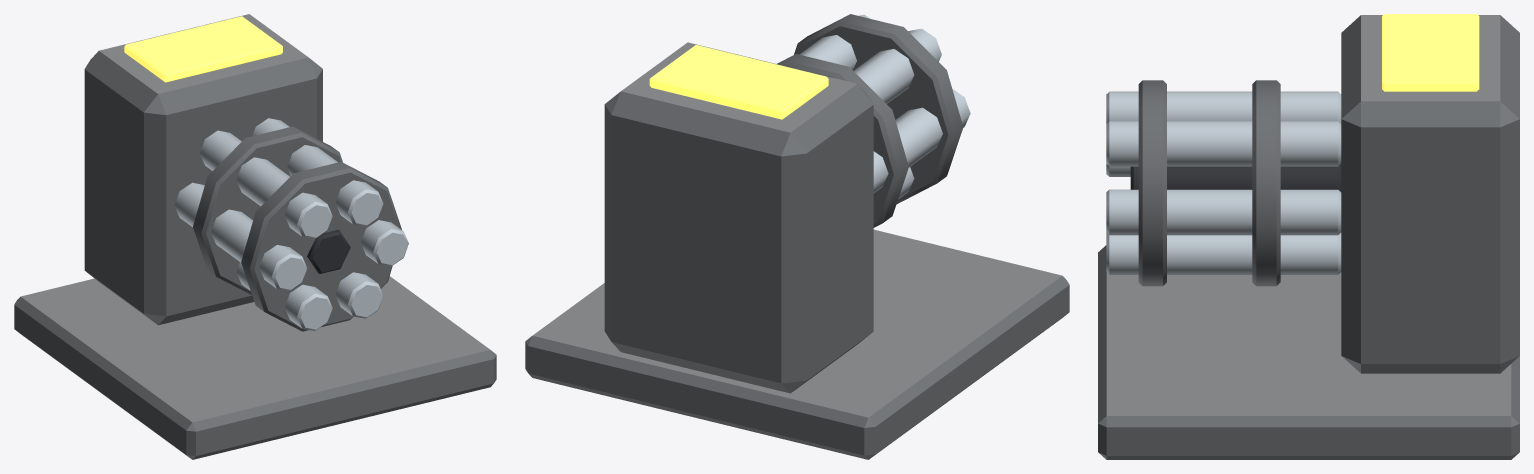
The model's file is R4X_RapidFire_LOD1.glb.
The picture shows the model from 3 angles, left to right: view 1: azimuth 30°, elevation 25°; view 2: azimuth 150°, elevation 25°; view 3: azimuth 270°, elevation 25°; orthographic projection. The views are drawn at different scales.
Visible parts, largest first — view 1: R4X_RapidFire_LOD1; view 2: R4X_RapidFire_LOD1; view 3: R4X_RapidFire_LOD1.
Part boxes in pixels (<box>): R4X_RapidFire_LOD1: <box>14,14,496,459</box>; R4X_RapidFire_LOD1: <box>525,14,1069,459</box>; R4X_RapidFire_LOD1: <box>1098,14,1519,459</box>.
Bounding box in the file's own units: 0.52 × 0.445 × 0.52.
